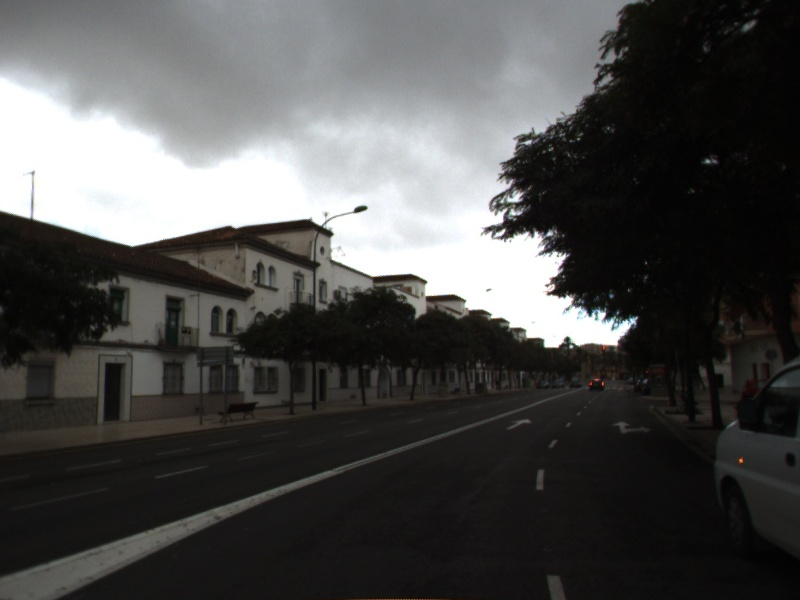STRAIGHT: (505, 417, 534, 430)
STRAIGHT_RIGHT: (611, 419, 652, 435)
